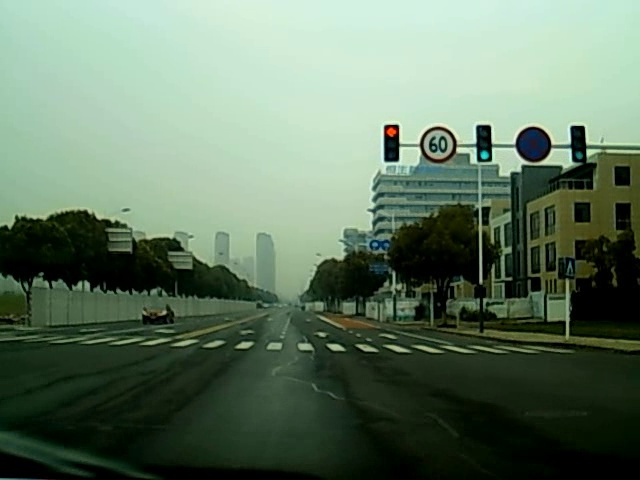Traffic_Light_go: (475, 126, 490, 164), (571, 128, 586, 161)
Traffic_Light_stop: (384, 127, 396, 166)
